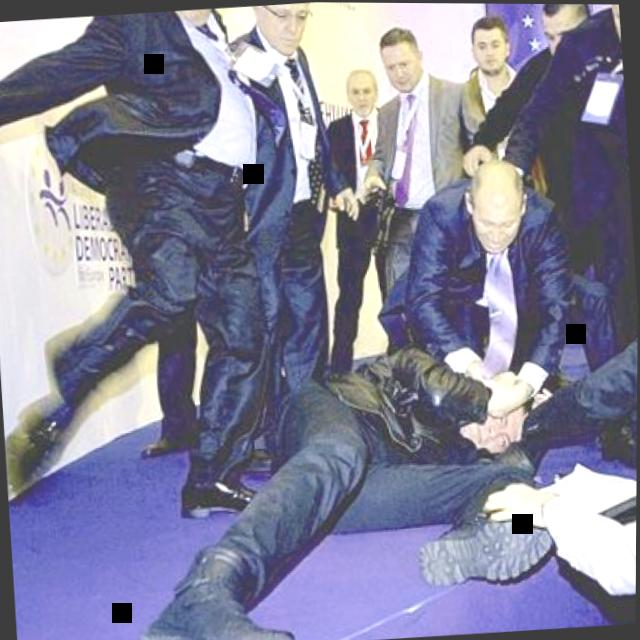Fall-Detected: (90, 308, 604, 640)
